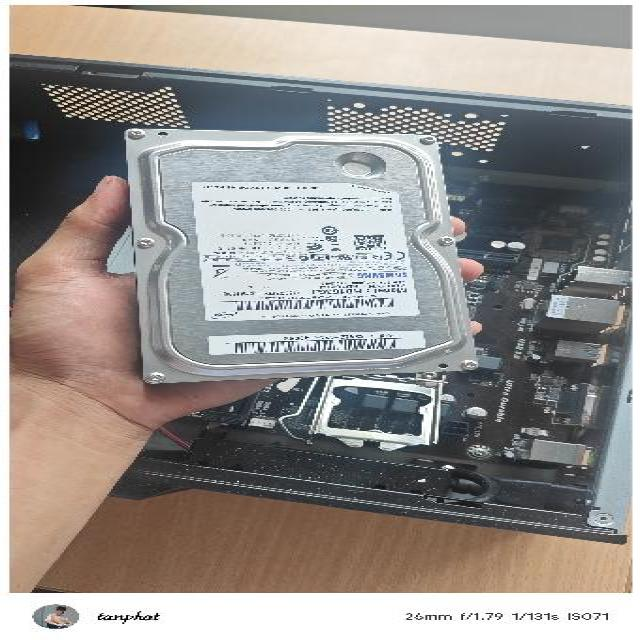DISK: (111, 124, 484, 386)
